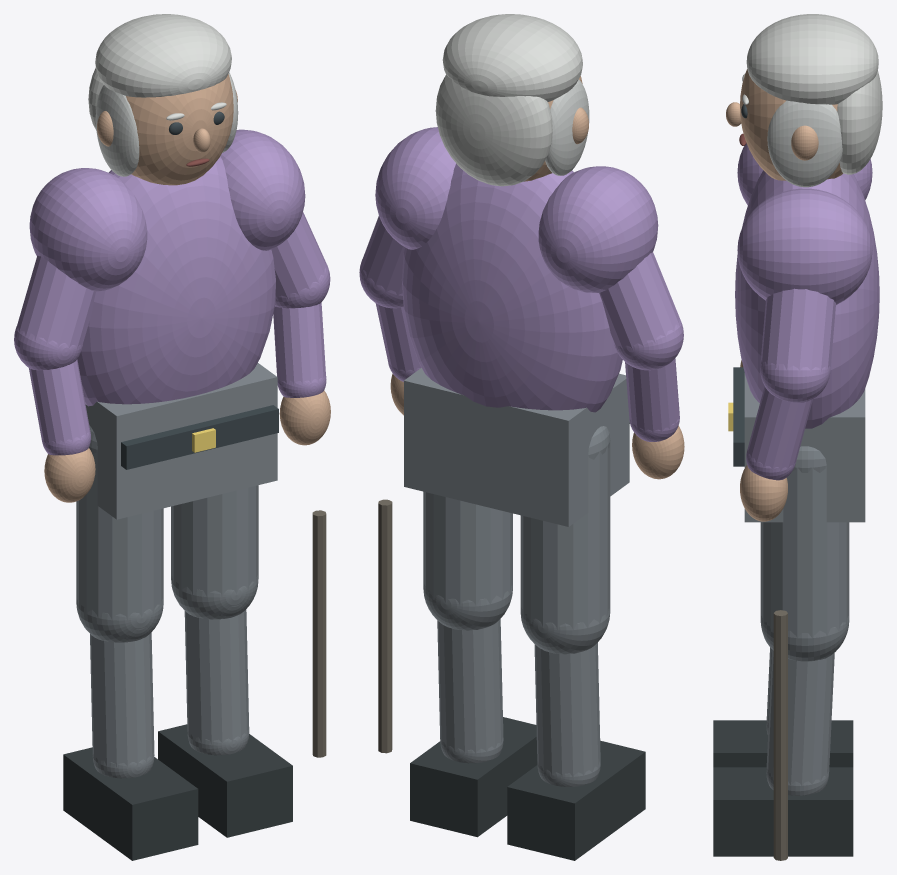
File: npc_elder.glb
3 renders of one model, left to right at view 1: azimuth 30°, elevation 25°; view 2: azimuth 150°, elevation 25°; view 3: azimuth 270°, elevation 25°, orthographic. The views are drawn at different scales.
Visible parts, largest first — view 1: torso_base, pelvis, shoulder_left, left_boot, left_trouser_upper, hair_cap, right_boot, right_trouser_upper, left_trouser_lower, right_trouser_lower, head, shoulder_right (+17 smaller); view 2: torso_base, pelvis, shoulder_left, left_trouser_upper, left_boot, hair_cap, hair_back, right_boot, right_trouser_upper, left_trouser_lower, right_trouser_lower, shoulder_right (+13 smaller); view 3: shoulder_right, right_trouser_upper, torso_base, right_boot, hair_cap, pelvis, right_trouser_lower, right_upper_arm, gray_hair_right, left_boot, walking_cane, right_forearm (+11 smaller).
Boxes of the visible parts, x1=… form: torso_base: x1=77, y1=156, x2=275, y2=406; pelvis: x1=85, y1=363, x2=277, y2=519; shoulder_left: x1=29, y1=168, x2=147, y2=291; left_boot: x1=63, y1=747, x2=198, y2=860; left_trouser_upper: x1=76, y1=451, x2=163, y2=620; hair_cap: x1=95, y1=14, x2=231, y2=97; right_boot: x1=158, y1=724, x2=292, y2=837; right_trouser_upper: x1=171, y1=485, x2=258, y2=597; left_trouser_lower: x1=90, y1=632, x2=154, y2=767; right_trouser_lower: x1=184, y1=609, x2=249, y2=744; head: x1=126, y1=74, x2=233, y2=185; shoulder_right: x1=220, y1=129, x2=305, y2=250; torso_base: x1=401, y1=163, x2=622, y2=412; pelvis: x1=404, y1=368, x2=629, y2=526; shoulder_left: x1=538, y1=166, x2=658, y2=292; left_trouser_upper: x1=520, y1=441, x2=610, y2=630; left_boot: x1=507, y1=740, x2=645, y2=860; hair_cap: x1=442, y1=14, x2=582, y2=101; hair_back: x1=435, y1=74, x2=552, y2=186; right_boot: x1=410, y1=717, x2=537, y2=837; right_trouser_upper: x1=423, y1=491, x2=512, y2=606; left_trouser_lower: x1=534, y1=642, x2=600, y2=777; right_trouser_lower: x1=437, y1=619, x2=503, y2=754; shoulder_right: x1=375, y1=127, x2=455, y2=249; shoulder_right: x1=737, y1=188, x2=872, y2=304; right_trouser_upper: x1=760, y1=466, x2=849, y2=638; torso_base: x1=735, y1=170, x2=879, y2=428; right_boot: x1=713, y1=767, x2=853, y2=856; hair_cap: x1=746, y1=14, x2=878, y2=104; pelvis: x1=744, y1=373, x2=865, y2=522; right_trouser_lower: x1=766, y1=650, x2=834, y2=785; right_upper_arm: x1=760, y1=288, x2=835, y2=372; gray_hair_right: x1=767, y1=100, x2=842, y2=187; left_boot: x1=713, y1=720, x2=853, y2=767; walking_cane: x1=773, y1=610, x2=787, y2=860; right_forearm: x1=747, y1=386, x2=812, y2=470.
Size of the model in its own units: 0.7449 by 1.81 by 0.351.
